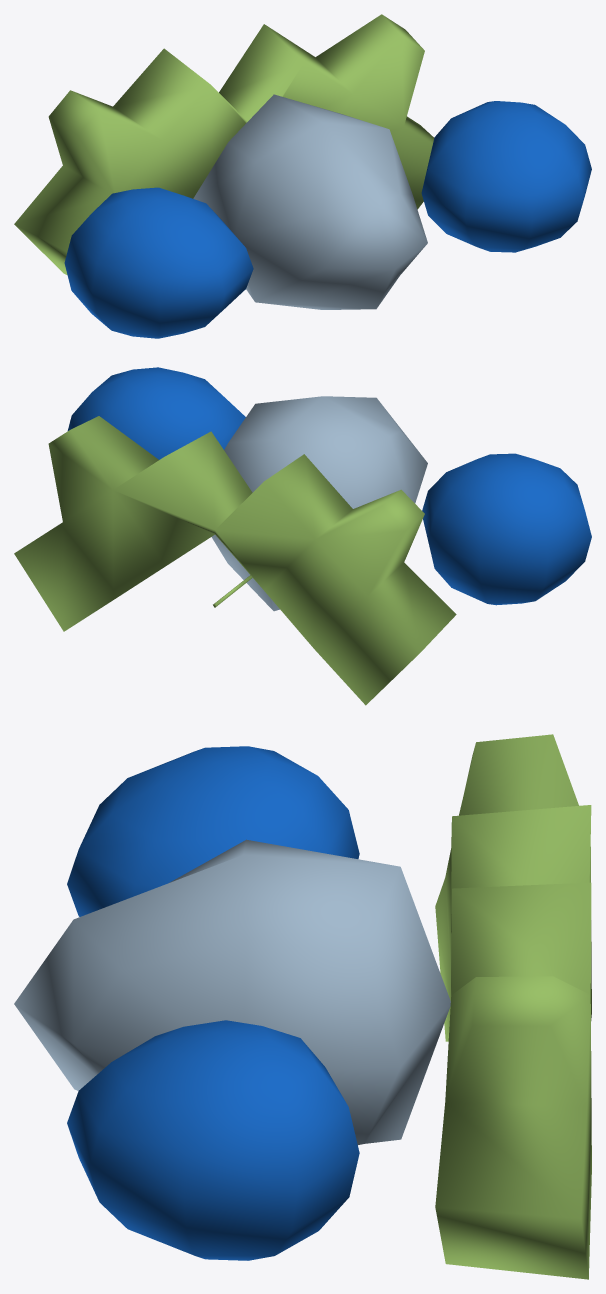
File: ship_4.gltf
3 views of the same model, one above another, from view 1: azimuth 30°, elevation 25°; view 2: azimuth 150°, elevation 25°; view 3: azimuth 270°, elevation 25° (orthographic). The views are drawn at different scales.
Parts seen in each view (by area): view 1: gtlf; view 2: gtlf; view 3: gtlf.
Part boxes in pixels (x1,y1,x2,y2): gtlf: [14, 14, 591, 338]; gtlf: [14, 367, 591, 705]; gtlf: [14, 734, 591, 1279].
Size of the model in its own units: 1.25 by 0.4764 by 0.7832.
